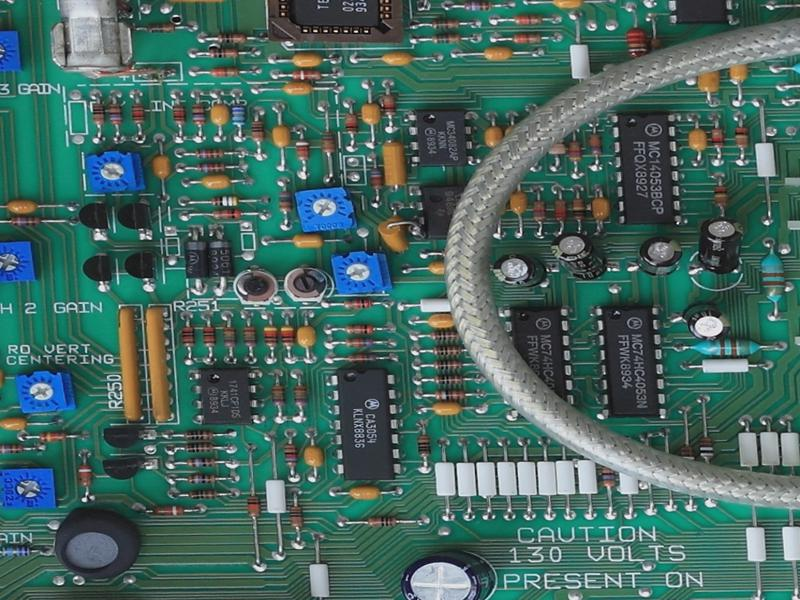Capacitor: (399, 548, 500, 600), (549, 231, 612, 283), (693, 216, 746, 277), (678, 298, 734, 343), (490, 251, 550, 290), (634, 235, 684, 278)
Diode: (182, 237, 210, 285), (206, 237, 236, 281)
Resistor: (754, 244, 788, 308), (684, 339, 766, 359), (625, 25, 648, 60), (3, 214, 47, 230), (696, 430, 716, 465), (202, 194, 249, 208), (549, 194, 570, 225), (731, 124, 752, 155), (206, 63, 244, 80), (599, 459, 618, 493), (429, 356, 469, 372), (343, 349, 380, 366), (318, 128, 338, 159), (280, 439, 300, 470), (415, 431, 435, 462), (426, 328, 467, 343), (286, 503, 306, 533), (149, 503, 189, 518), (429, 342, 469, 357), (184, 471, 221, 487), (178, 427, 217, 442), (368, 164, 388, 193), (1, 544, 35, 561), (428, 373, 472, 386), (343, 109, 362, 139), (278, 322, 297, 352), (340, 335, 378, 350), (712, 182, 731, 212), (677, 438, 698, 465), (430, 387, 470, 401), (230, 99, 248, 130), (213, 30, 250, 45), (202, 47, 244, 60), (429, 31, 465, 46), (530, 196, 548, 226), (288, 68, 326, 82), (269, 382, 288, 410), (570, 194, 587, 225), (186, 488, 221, 503), (291, 382, 309, 411), (76, 462, 95, 489), (379, 92, 398, 119), (708, 125, 727, 152), (263, 320, 279, 352), (342, 322, 376, 337), (190, 147, 229, 160), (170, 101, 188, 129), (244, 492, 262, 520), (568, 135, 584, 166), (192, 162, 230, 175), (363, 515, 401, 528), (207, 208, 248, 220), (36, 430, 71, 444), (249, 118, 267, 145), (340, 297, 377, 310), (131, 98, 147, 128), (144, 21, 178, 35), (242, 322, 258, 351), (183, 456, 221, 468), (295, 137, 311, 165), (181, 443, 218, 455), (510, 33, 544, 46), (278, 188, 293, 217), (588, 130, 602, 161), (510, 14, 546, 26), (90, 101, 107, 126), (181, 322, 195, 352), (202, 322, 217, 350), (429, 18, 464, 30), (191, 100, 205, 129), (222, 323, 237, 349), (462, 1, 497, 12), (107, 102, 123, 126), (1, 443, 28, 455)
